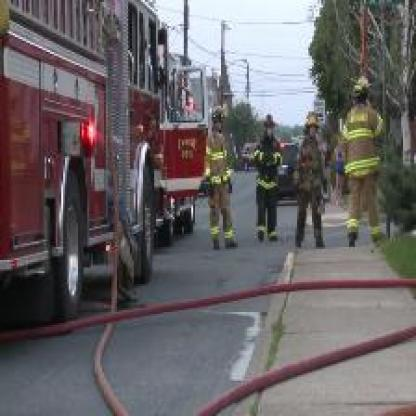other: (19, 80, 102, 211)
